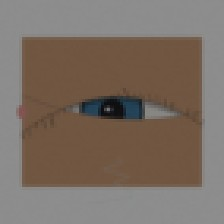foreign_body_visible: (159, 90, 177, 105)
